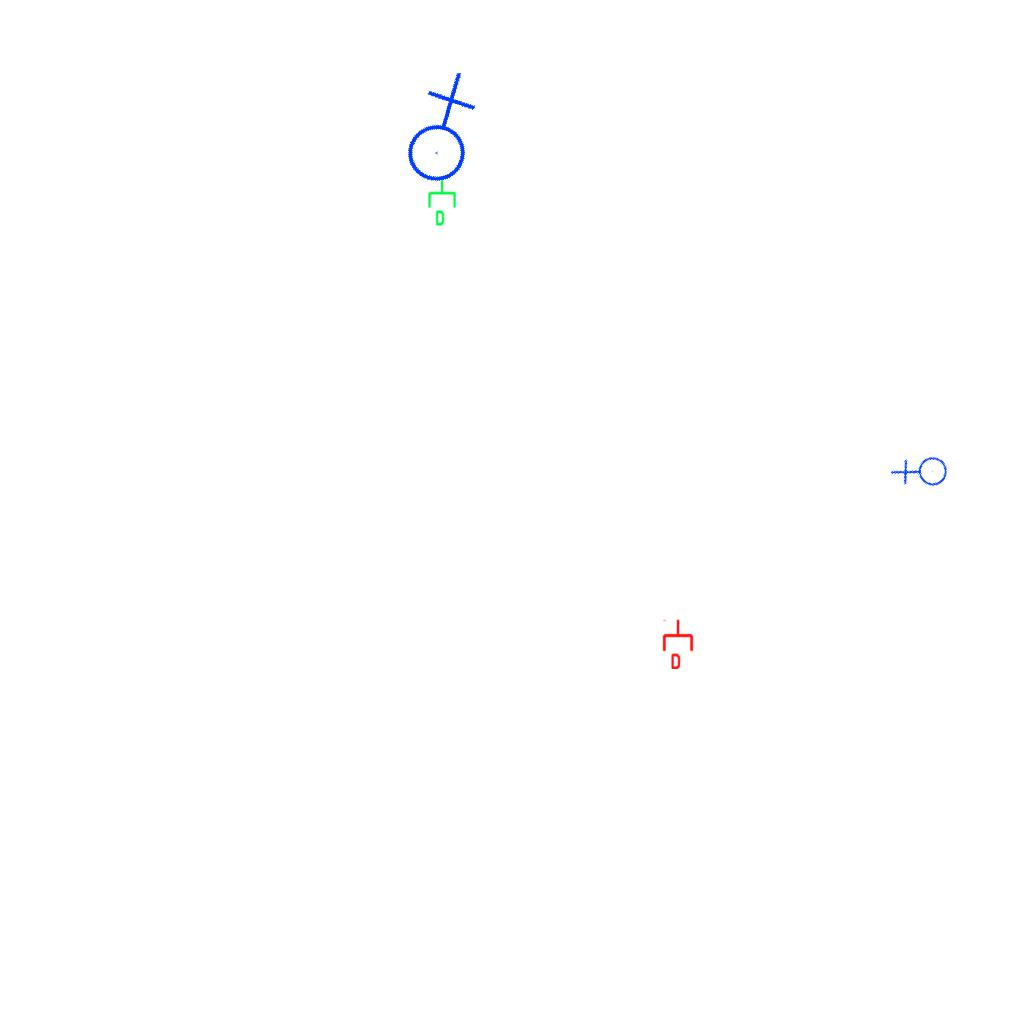Datenanschluss_einfach: (661, 619, 695, 669), (426, 177, 460, 227)
Elektroanschluss_allgemein_230V_Geraeteanschlussdose_230V: (372, 66, 505, 198), (888, 439, 957, 508)
